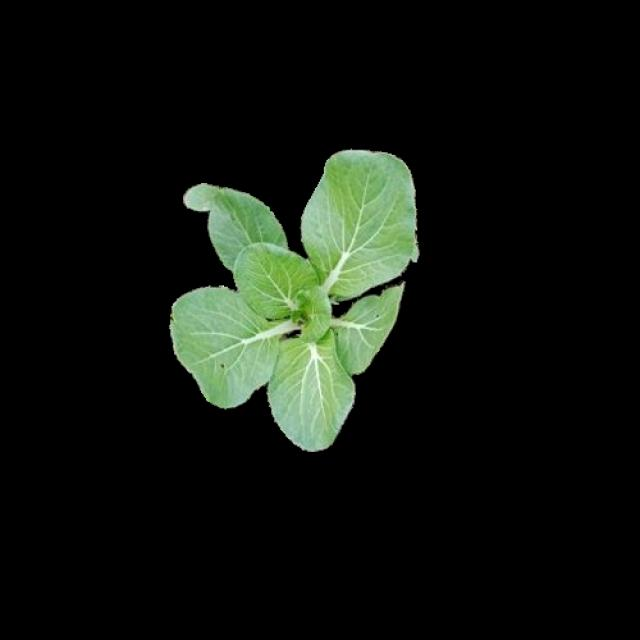healthy: (171, 147, 420, 449)
not-mature: (170, 148, 419, 450)
